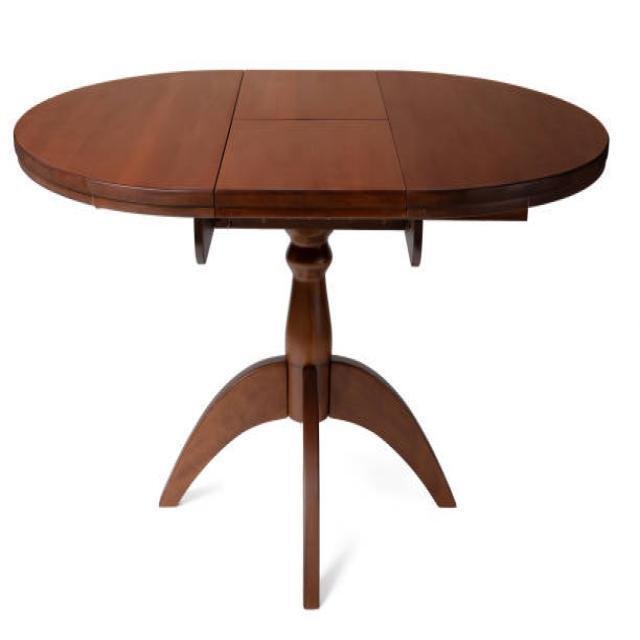table: (12, 65, 610, 609)
